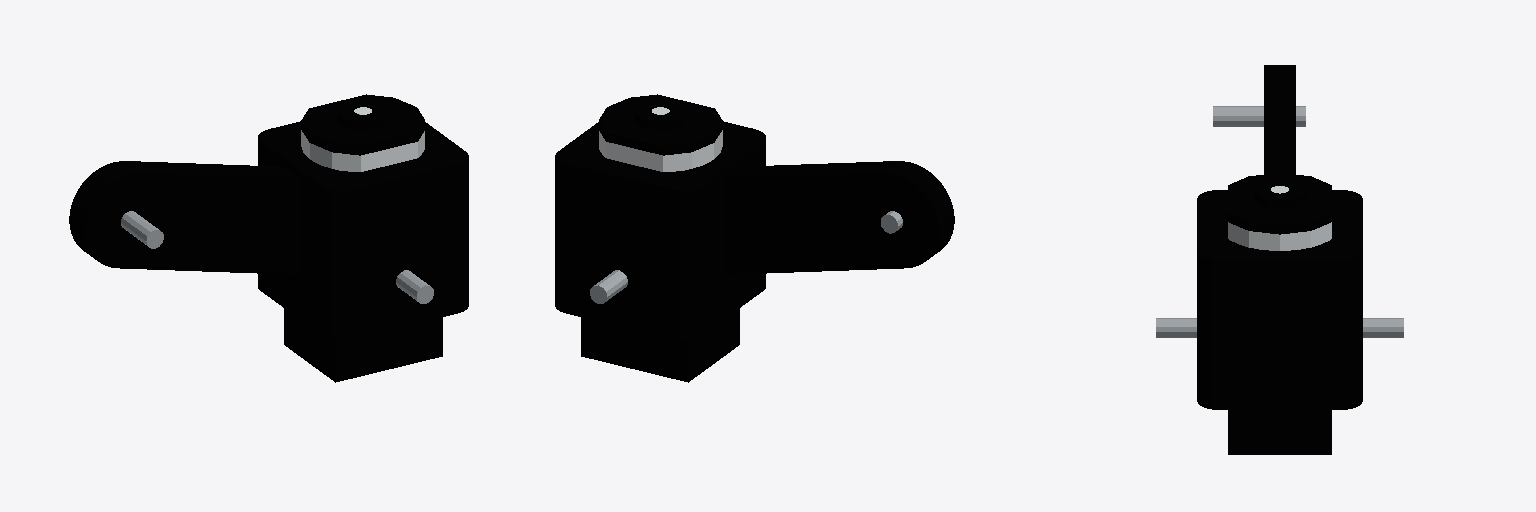
Rendered from motor_R.obj.
3 renders of one model, left to right at view 1: azimuth 30°, elevation 25°; view 2: azimuth 150°, elevation 25°; view 3: azimuth 270°, elevation 25°, orthographic.
Parts seen in each view (by area): view 1: motor_R; view 2: motor_R; view 3: motor_R.
Boxes of the visible parts, box(x1,y1,x2,y2) form: motor_R: box(69, 94, 468, 382); motor_R: box(555, 94, 954, 382); motor_R: box(1156, 65, 1403, 454).
Size of the model in its own units: 0.04 by 0.0258 by 0.024.